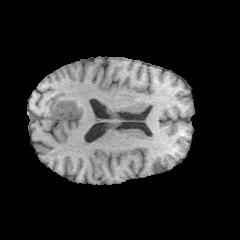glioma: (52, 95, 83, 120)
